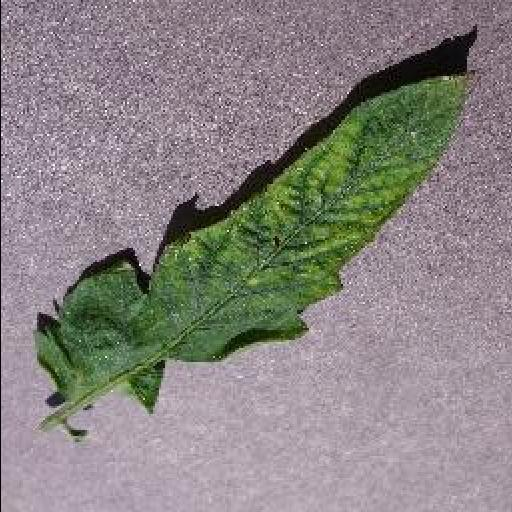disease_tomato: (32, 66, 486, 412)
